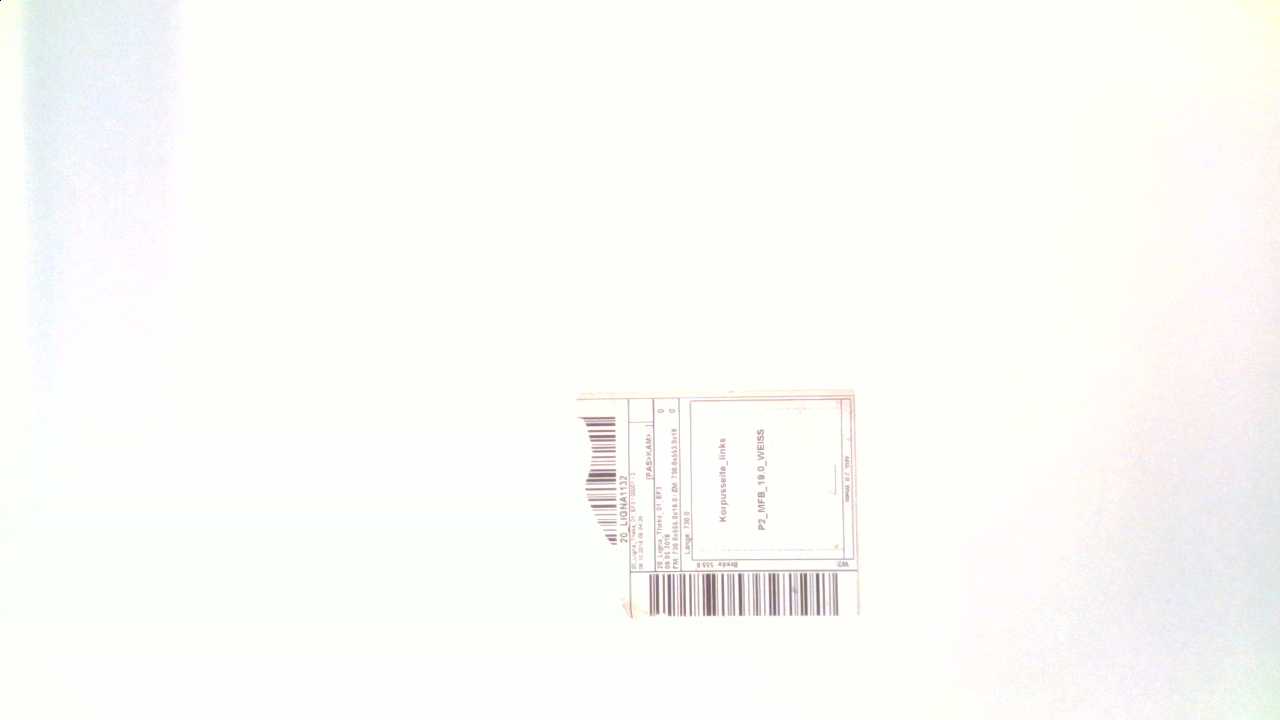barcode: (565, 384, 889, 628)
